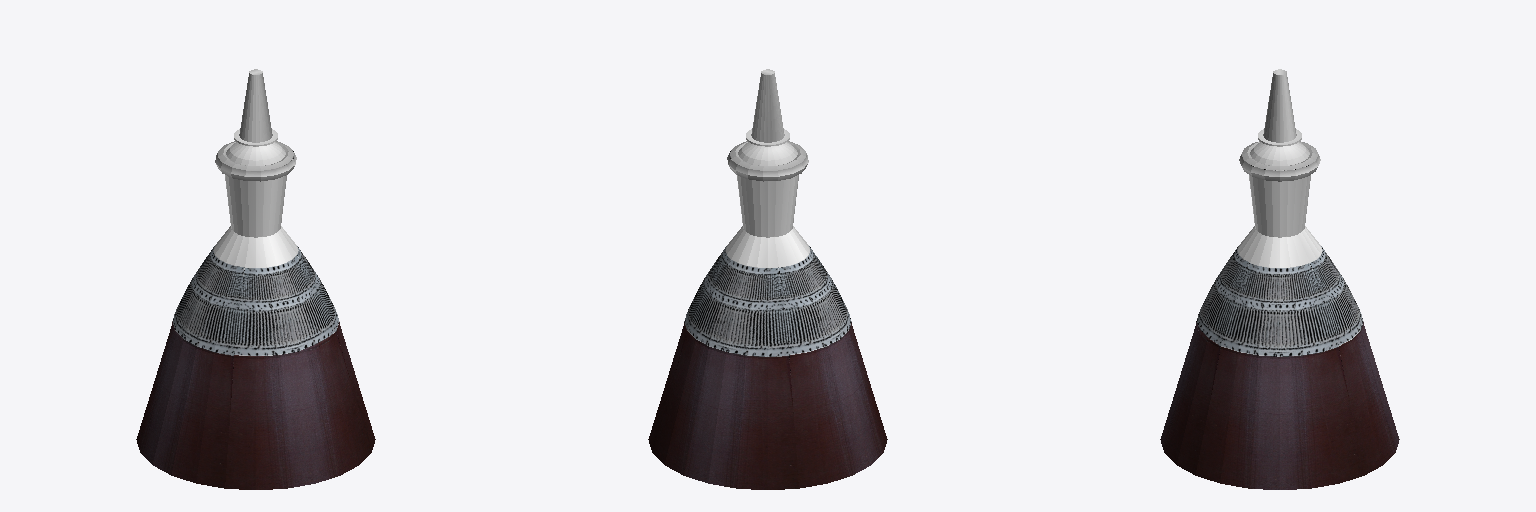
3 renders of one model, left to right at view 1: azimuth 30°, elevation 25°; view 2: azimuth 150°, elevation 25°; view 3: azimuth 270°, elevation 25°, orthographic.
Parts seen in each view (by area): view 1: Cylinder1; view 2: Cylinder1; view 3: Cylinder1.
Part boxes in pixels (bbox=[...]): Cylinder1: bbox=[136, 69, 375, 489]; Cylinder1: bbox=[648, 69, 887, 489]; Cylinder1: bbox=[1160, 69, 1399, 489].
Bounding box in the file's own units: 1.4 × 2.37 × 1.4.
Materials: 1 (1 with a texture image).